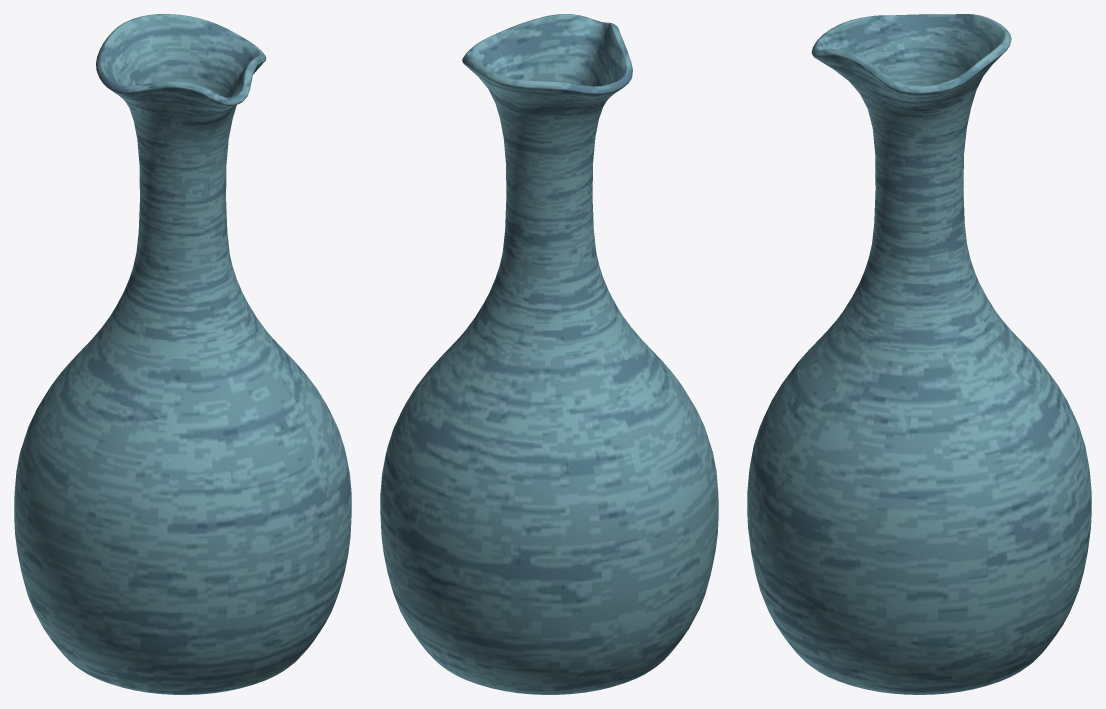
Rendered from ceramic_vase_01.glb.
3 views of the same model, side by side, from view 1: azimuth 30°, elevation 25°; view 2: azimuth 150°, elevation 25°; view 3: azimuth 270°, elevation 25° (orthographic). The views are drawn at different scales.
Parts seen in each view (by area): view 1: ceramic_vase_01; view 2: ceramic_vase_01; view 3: ceramic_vase_01.
Part boxes in pixels (x1,y1,x2,y2): ceramic_vase_01: (14, 14, 351, 694); ceramic_vase_01: (380, 14, 718, 694); ceramic_vase_01: (747, 14, 1091, 694).
Bounding box in the file's own units: 0.2036 × 0.4003 × 0.2036.
1 material, 1 textured.
